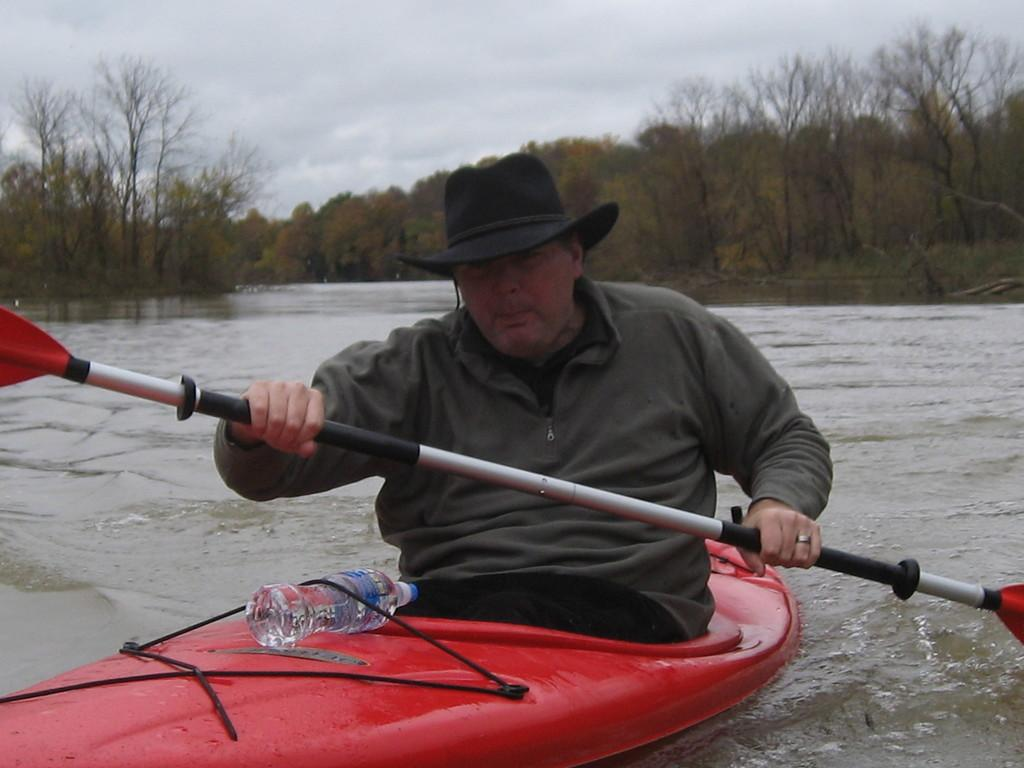Hat: (398, 148, 620, 280)
